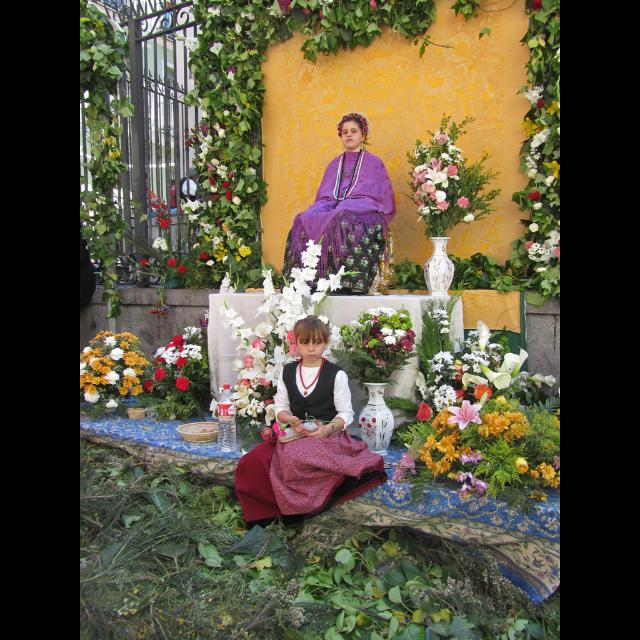Flower: (80, 1, 560, 640), (86, 335, 150, 393)
